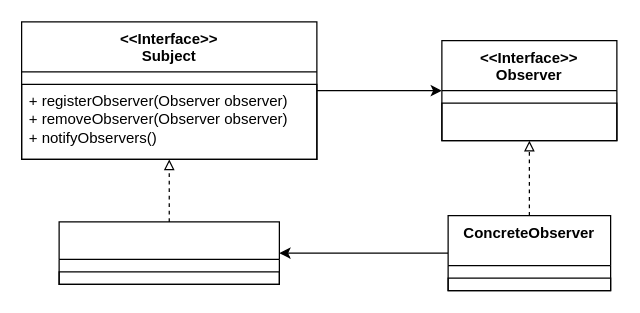
Some shapes in this 640 by 313 pixel diagram are drawn without their labels. Here are the shapes that lost their labels. From the top down, the centre of each, then its label:
the point at 529,121: + update()
the point at 168,252: ConcreteSubject
